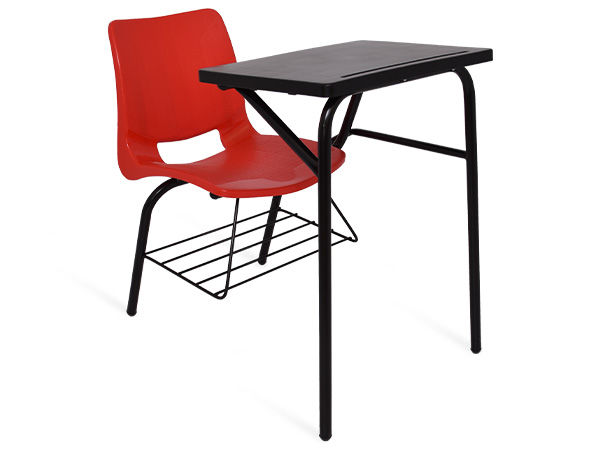m01: (107, 7, 494, 441)
